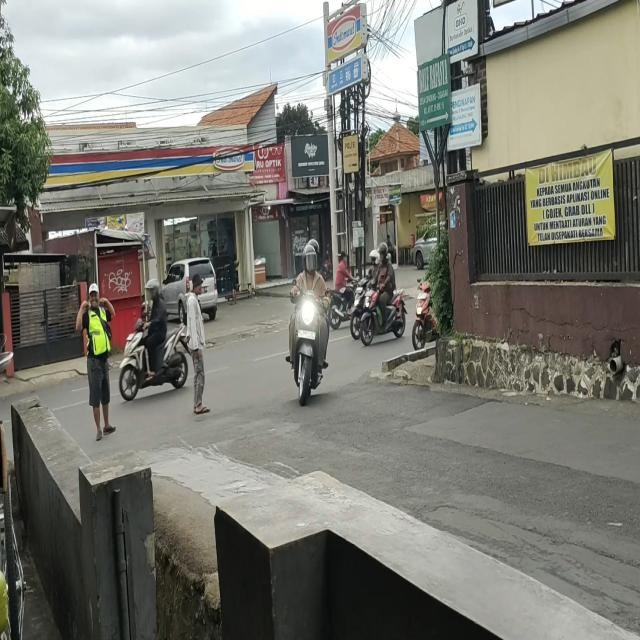helmet: (304, 245, 318, 274), (146, 280, 161, 304), (378, 244, 388, 264), (371, 251, 378, 264)
no-helmet: (340, 252, 346, 262)
